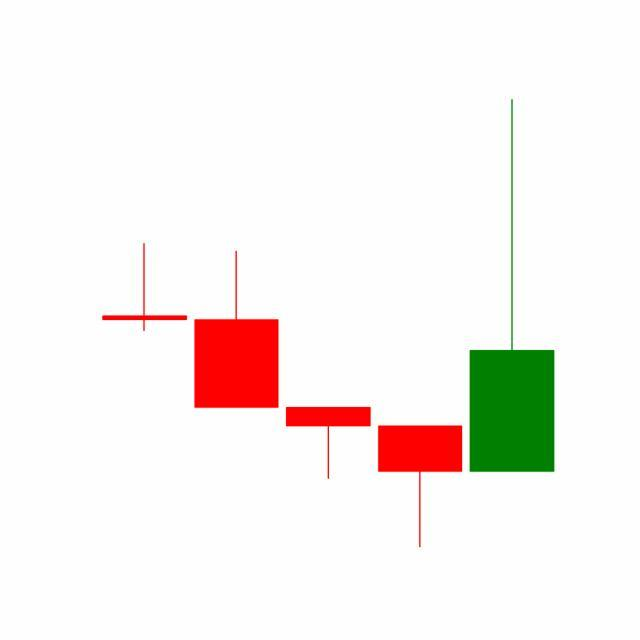Hammer: (374, 425, 468, 550)
